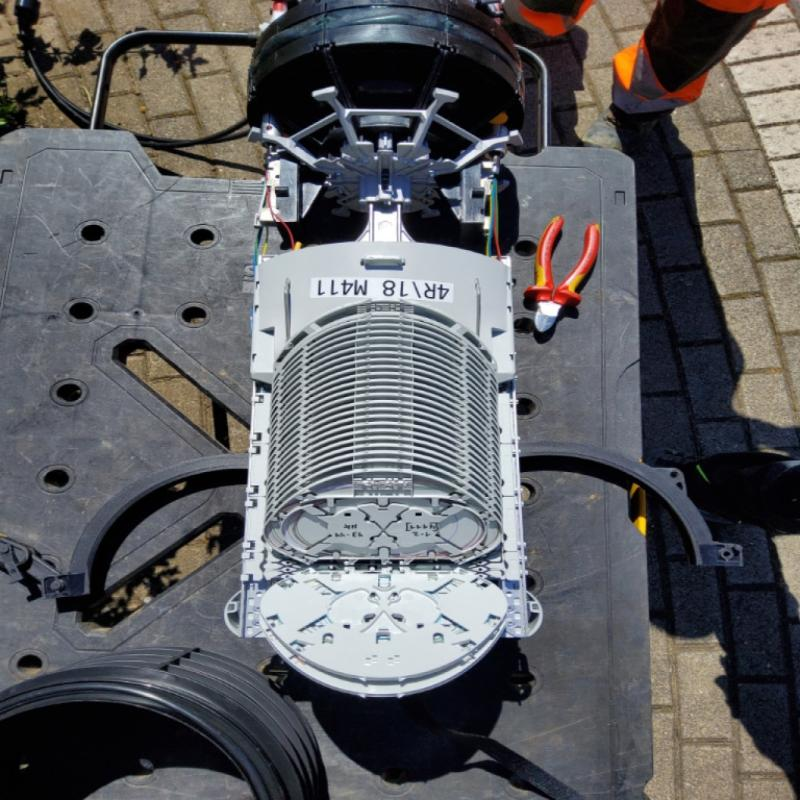NT-Muffen: (227, 1, 538, 702)
